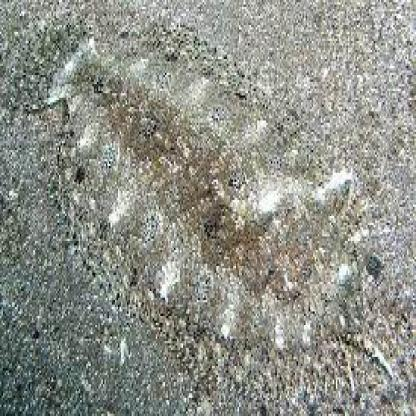flounder: (24, 26, 384, 370)
